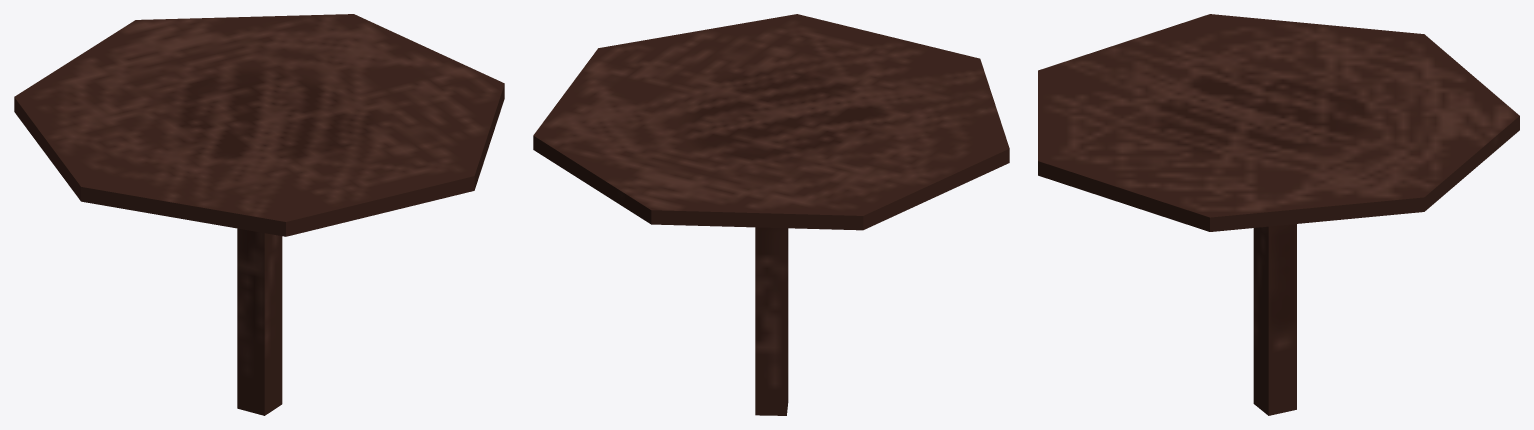
File: Table.fbx
3 renders of one model, left to right at view 1: azimuth 30°, elevation 25°; view 2: azimuth 150°, elevation 25°; view 3: azimuth 270°, elevation 25°, orthographic. The views are drawn at different scales.
Visible parts, largest first — view 1: cylinder, cube; view 2: cylinder, cube; view 3: cylinder, cube.
Boxes of the visible parts, bbox=[...] form: cylinder: bbox=[14, 14, 504, 236]; cube: bbox=[237, 228, 282, 415]; cylinder: bbox=[533, 14, 1009, 230]; cube: bbox=[755, 227, 788, 415]; cylinder: bbox=[1038, 14, 1519, 231]; cube: bbox=[1253, 224, 1296, 415].
Bounding box in the file's own units: 188 × 125 × 188.
Materials: 1 (1 with a texture image).
